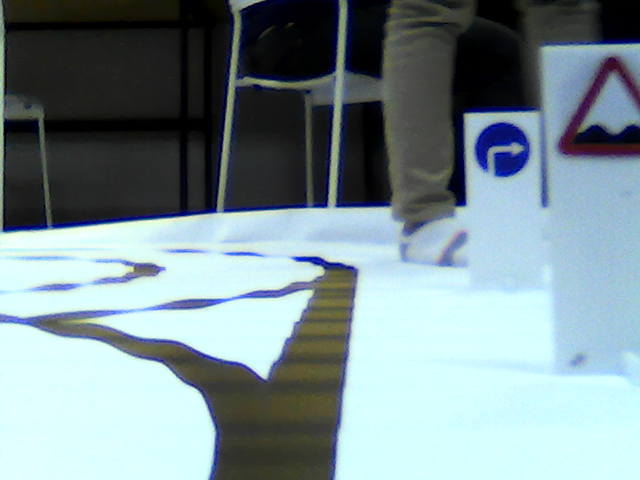Nerov: (554, 55, 640, 158)
Right: (475, 123, 529, 177)
